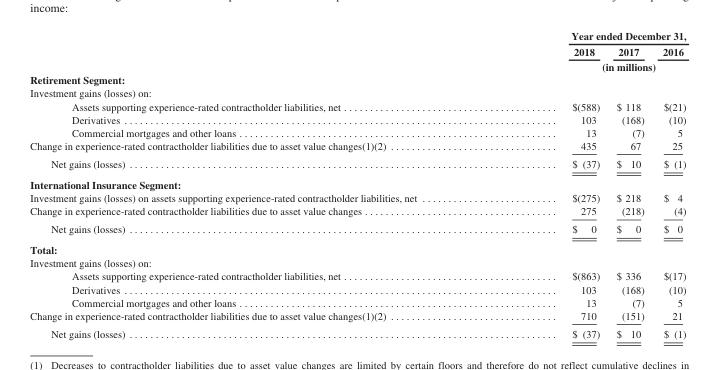table: (29, 29, 685, 339)
table column: (29, 29, 493, 339), (493, 29, 607, 339), (607, 29, 652, 339), (652, 29, 685, 339)
table column header: (29, 29, 685, 73)
table projected row header: (29, 173, 685, 190), (29, 239, 685, 256), (29, 73, 685, 86), (29, 86, 685, 99), (29, 256, 685, 269)
table row: (29, 219, 685, 239), (29, 154, 685, 173), (29, 173, 685, 190), (29, 239, 685, 256), (29, 138, 685, 154), (29, 308, 685, 324), (29, 43, 685, 58), (29, 58, 685, 73), (29, 204, 685, 219), (29, 324, 685, 339), (29, 29, 685, 43), (29, 190, 685, 204), (29, 73, 685, 86), (29, 86, 685, 99), (29, 99, 685, 112), (29, 112, 685, 125), (29, 125, 685, 138), (29, 256, 685, 269), (29, 269, 685, 282), (29, 282, 685, 295), (29, 295, 685, 308)
table spanning cell: (493, 58, 685, 73), (493, 29, 685, 43)
